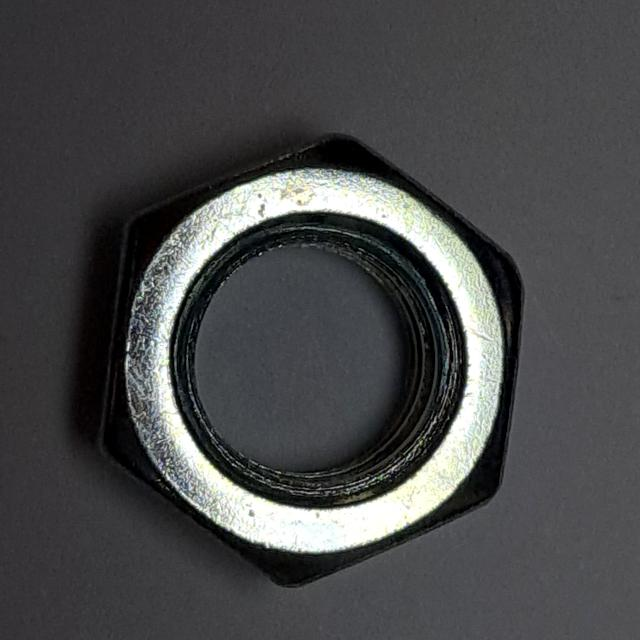Excellent: (83, 127, 536, 598)
